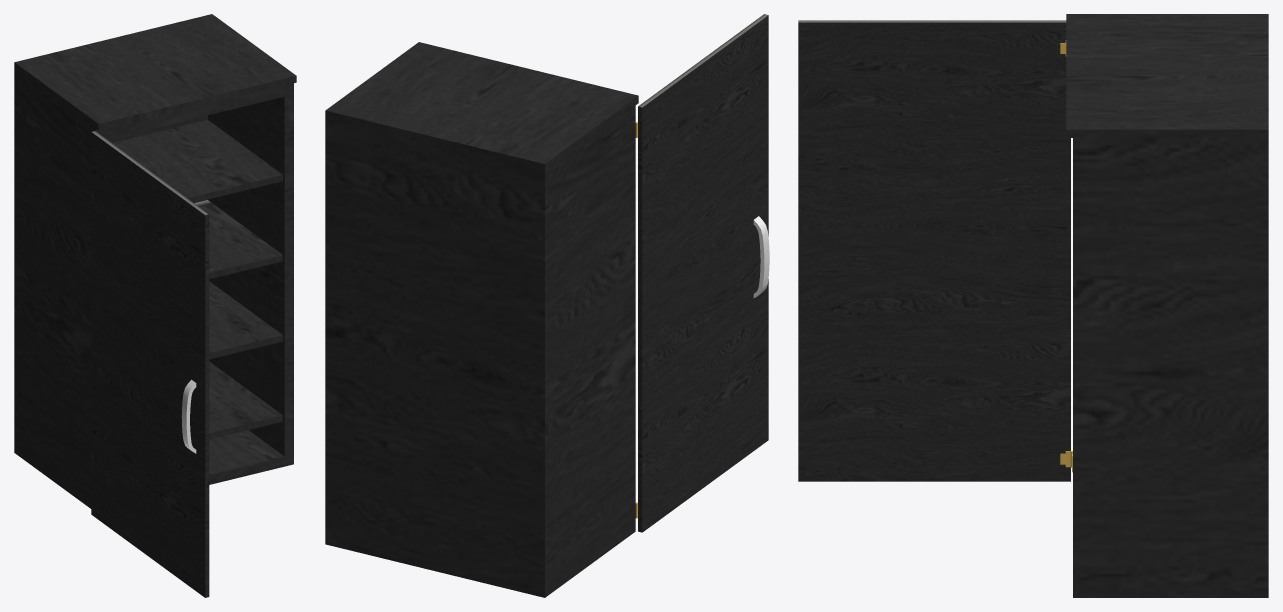
Rendered from Closet47.fbx.
The picture shows the model from 3 angles, left to right: view 1: azimuth 30°, elevation 25°; view 2: azimuth 150°, elevation 25°; view 3: azimuth 270°, elevation 25°; orthographic projection. The views are drawn at different scales.
Parts seen in each view (by area): view 1: Closet47, Closet47Door; view 2: Closet47, Closet47Door; view 3: Closet47Door, Closet47.
Boxes of the visible parts, left/top/right/bottom form: Closet47: left=14, top=14, right=296, bottom=508; Closet47Door: left=91, top=131, right=209, bottom=597; Closet47: left=325, top=42, right=638, bottom=597; Closet47Door: left=635, top=14, right=769, bottom=532; Closet47Door: left=798, top=20, right=1072, bottom=481; Closet47: left=1066, top=14, right=1268, bottom=597.
Bounding box in the file's own units: 66.96 × 117 × 107.
